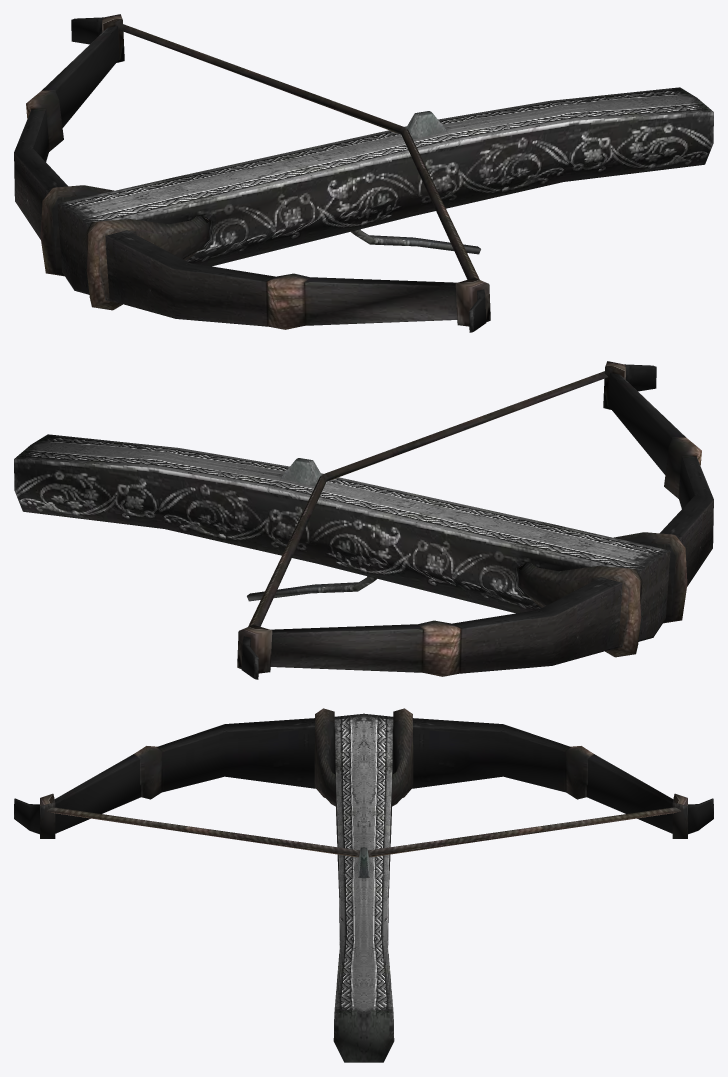
File: CROSSBOW_BLACK_01.glb
The picture shows the model from 3 angles, top to bottom: view 1: azimuth 30°, elevation 25°; view 2: azimuth 150°, elevation 25°; view 3: azimuth 270°, elevation 25°; orthographic projection. The views are drawn at different scales.
Visible parts, largest first — view 1: CROSSBOW_BLACK_01; view 2: CROSSBOW_BLACK_01; view 3: CROSSBOW_BLACK_01.
Boxes of the visible parts, bbox=[...] form: CROSSBOW_BLACK_01: bbox=[14, 14, 713, 332]; CROSSBOW_BLACK_01: bbox=[14, 361, 713, 679]; CROSSBOW_BLACK_01: bbox=[14, 708, 713, 1062].
Bounding box in the file's own units: 0.8192 × 0.1904 × 0.8926.
Materials: 1 (1 with a texture image).
